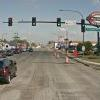Traffic light: (4, 14, 66, 35)
